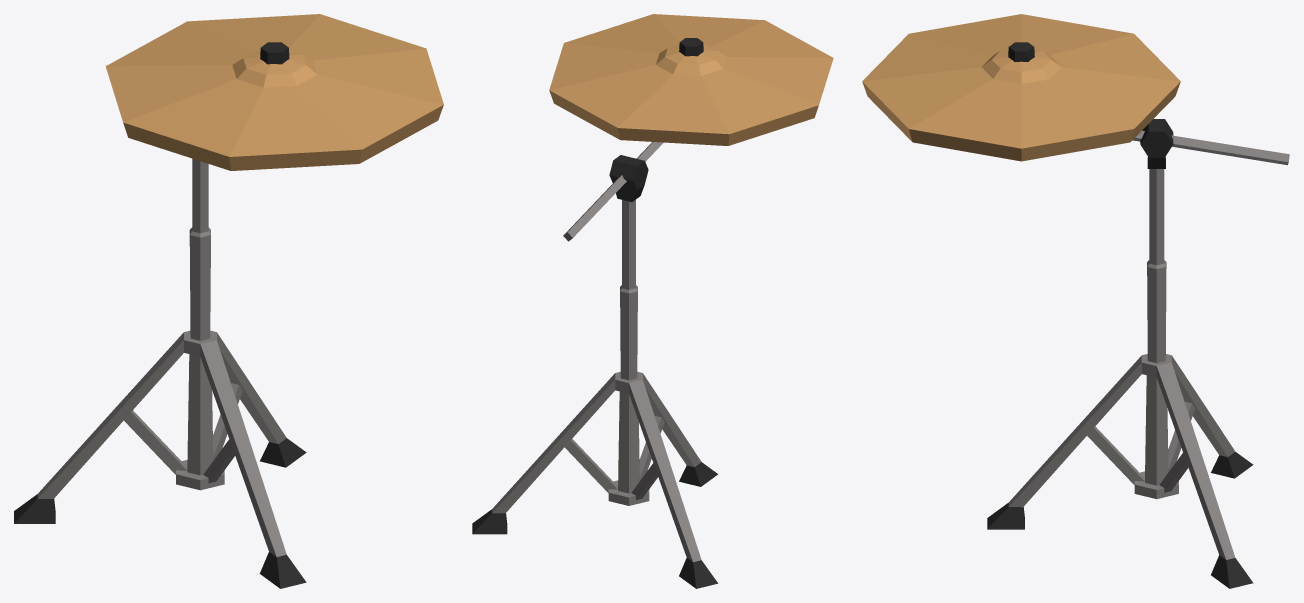
The model's file is music_drum-cymbal.fbx.
3 views of the same model, side by side, from view 1: azimuth 30°, elevation 25°; view 2: azimuth 150°, elevation 25°; view 3: azimuth 270°, elevation 25° (orthographic). The views are drawn at different scales.
Visible parts, largest first — view 1: music_drum_cymbal; view 2: music_drum_cymbal; view 3: music_drum_cymbal.
Part boxes in pixels (x1,y1,x2,y2): music_drum_cymbal: [14, 14, 443, 588]; music_drum_cymbal: [472, 14, 833, 588]; music_drum_cymbal: [862, 14, 1289, 588].
Size of the model in its own units: 121 by 200 by 162.
